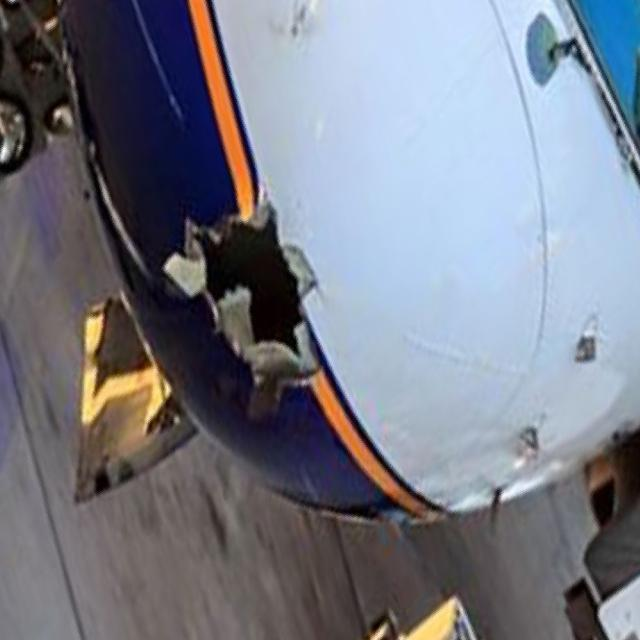crack: (162, 207, 334, 404)
